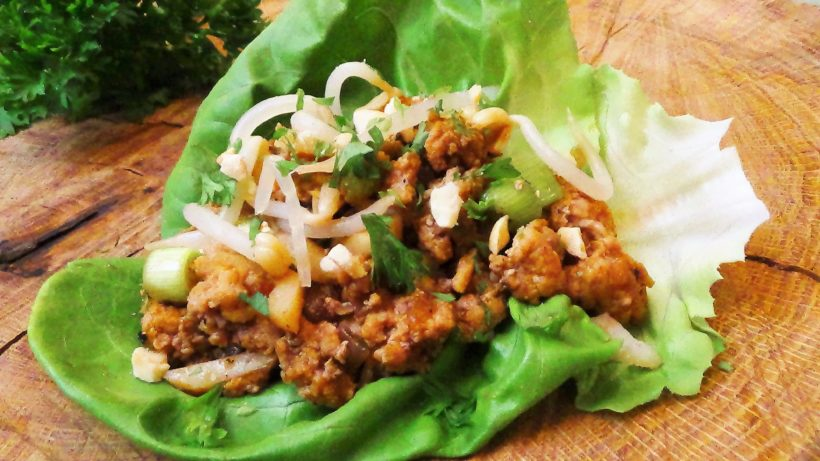chopped lettuce: (59, 308, 733, 460), (238, 5, 735, 193)
